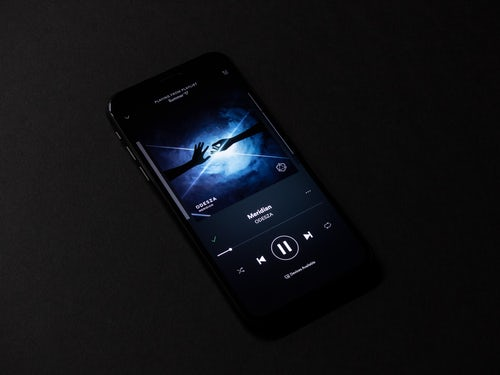phone: (106, 51, 394, 342)
